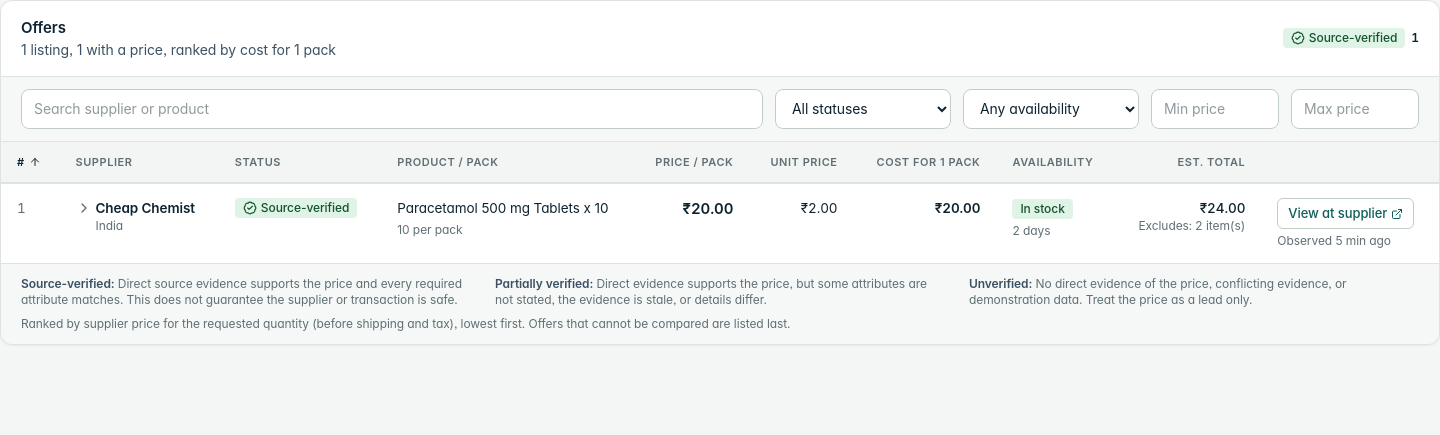
it: OffersSection › shows an empty state with a way to clear filters
In the field named "Search suppliers or products": (392, 108) [21, 88, 763, 128], type "zzz"
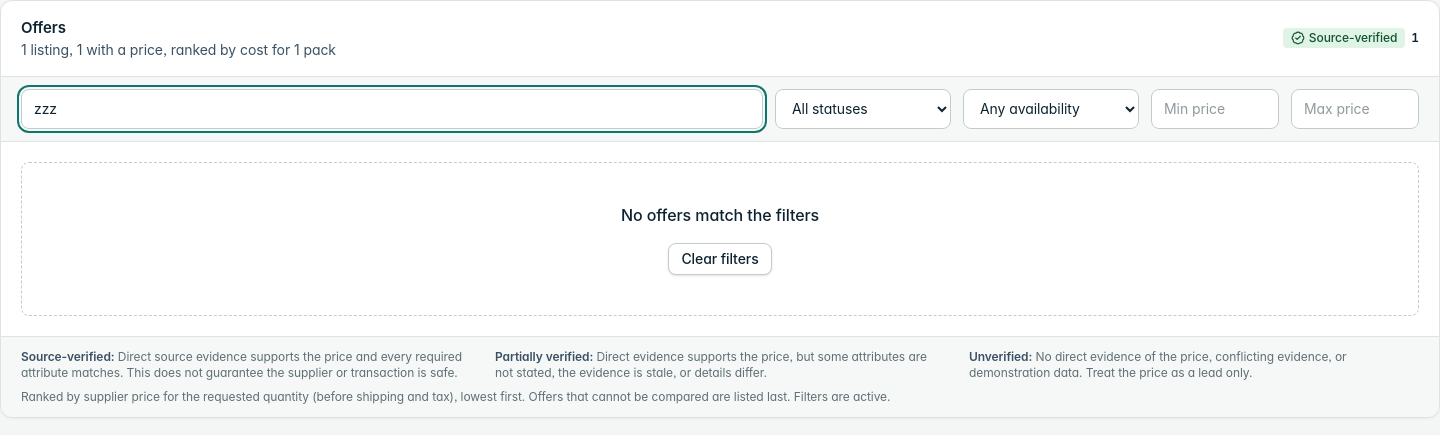
Now the text "No offers match the filters" is shown, box [621, 204, 819, 224]
Click the button "Clear filters": (720, 258) [668, 242, 772, 274]
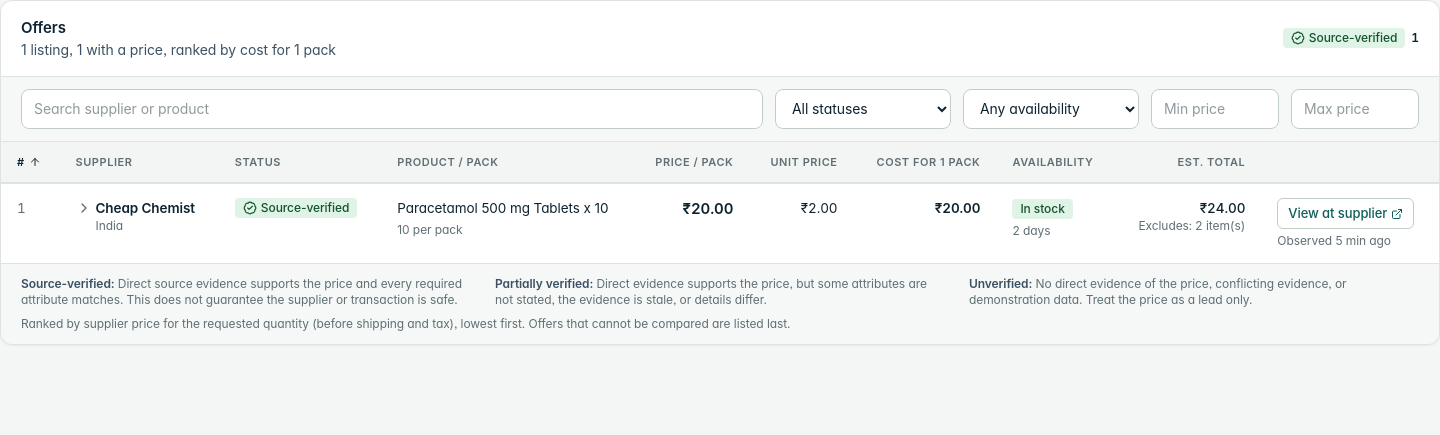
Now the text "Cheap Chemist" is shown, box [96, 200, 195, 216]
